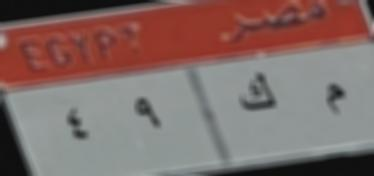4: (57, 100, 97, 153)
9: (130, 86, 165, 134)
kaaf: (232, 66, 280, 119)
meem: (314, 78, 352, 121)
